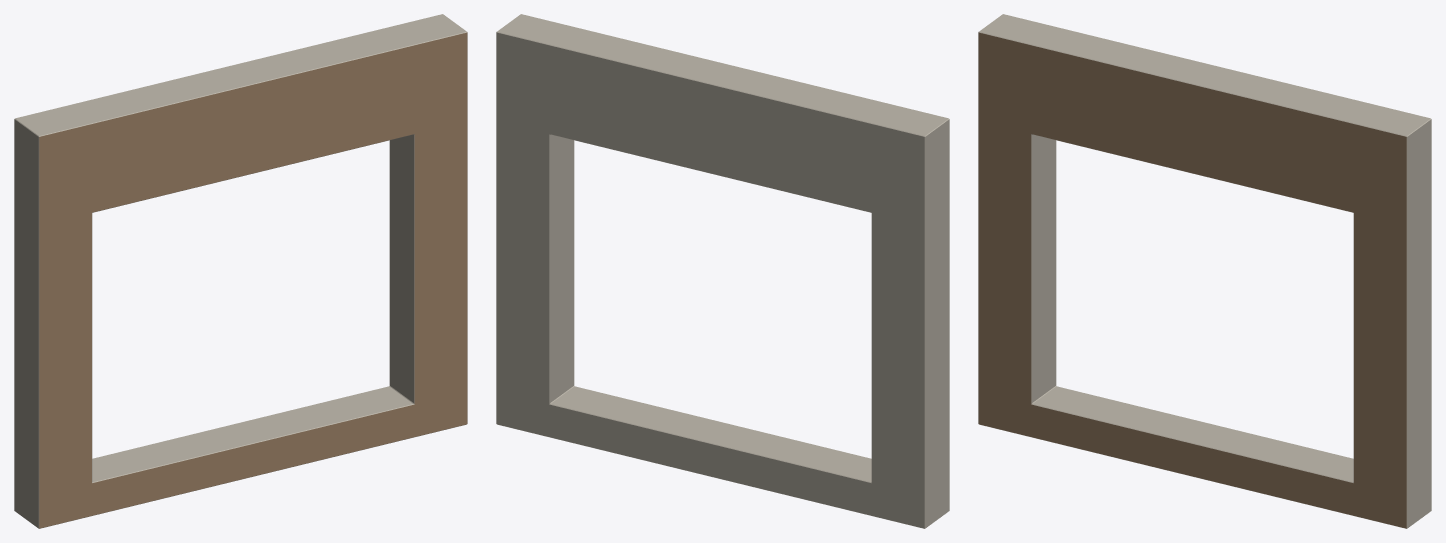
The model's file is arch_wall_ext_shop_w400_h350.glb.
3 views of the same model, side by side, from view 1: azimuth 30°, elevation 25°; view 2: azimuth 150°, elevation 25°; view 3: azimuth 330°, elevation 25° (orthographic).
Parts seen in each view (by area): view 1: Wall; view 2: Wall; view 3: Wall.
Boxes of the visible parts, x1,y1,x2,y2 form: Wall: (14,14,467,528); Wall: (496,14,949,528); Wall: (978,14,1431,528).
Size of what is drawn, in the model's own units: 4 by 3.5 by 0.4.
